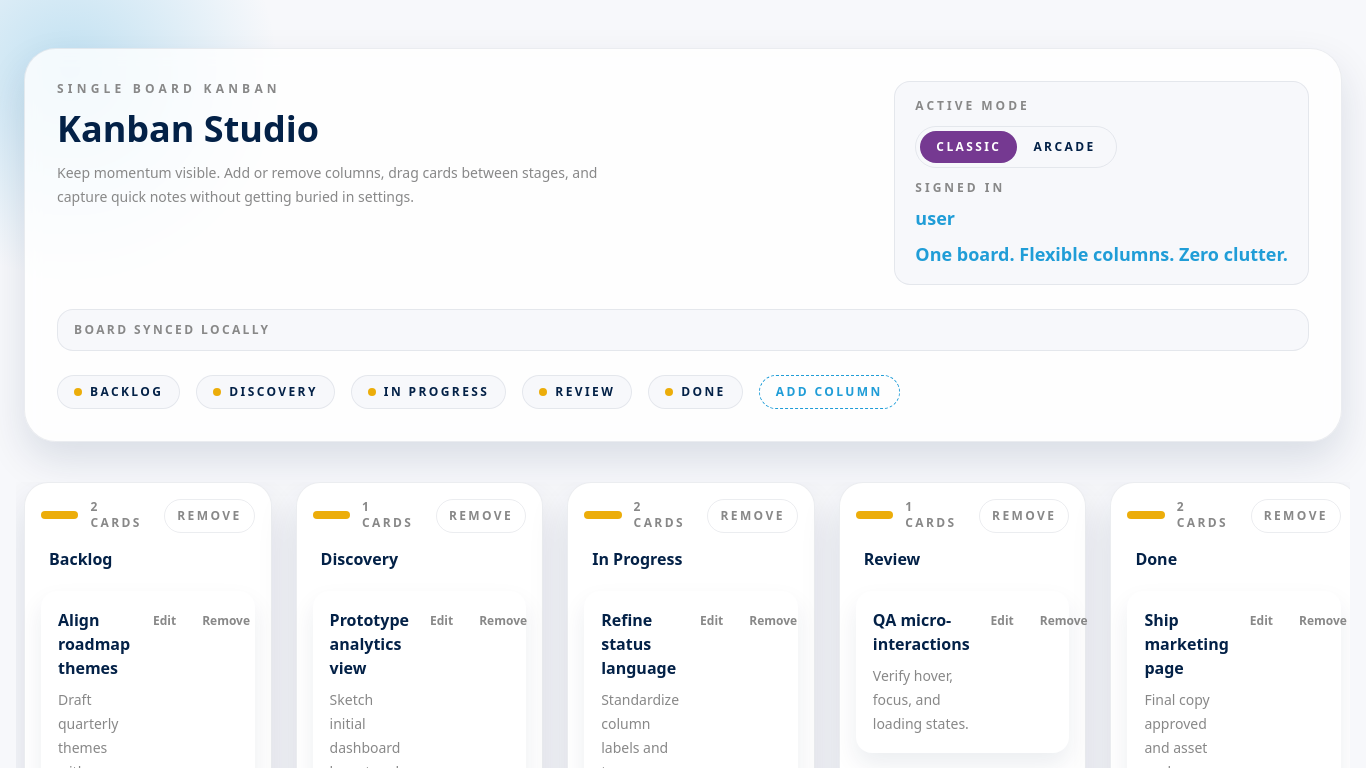
Test: KanbanBoard › switches between classic and arcade modes
Click the button "arcade": x=1064, y=147 [1017, 131, 1112, 163]
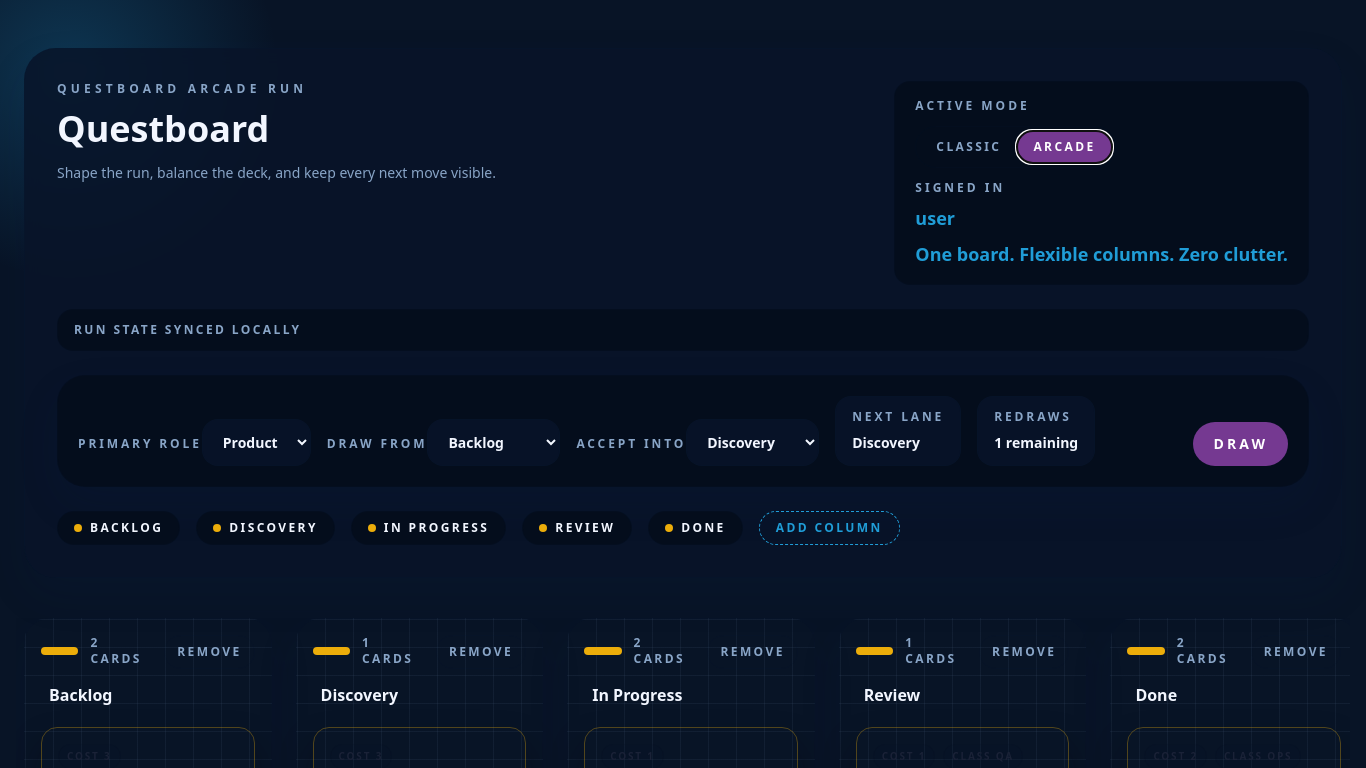
Result: the heading "Questboard" is shown at [57, 104, 269, 153]
Result: the button "Draw" is shown at [1193, 422, 1288, 466]
